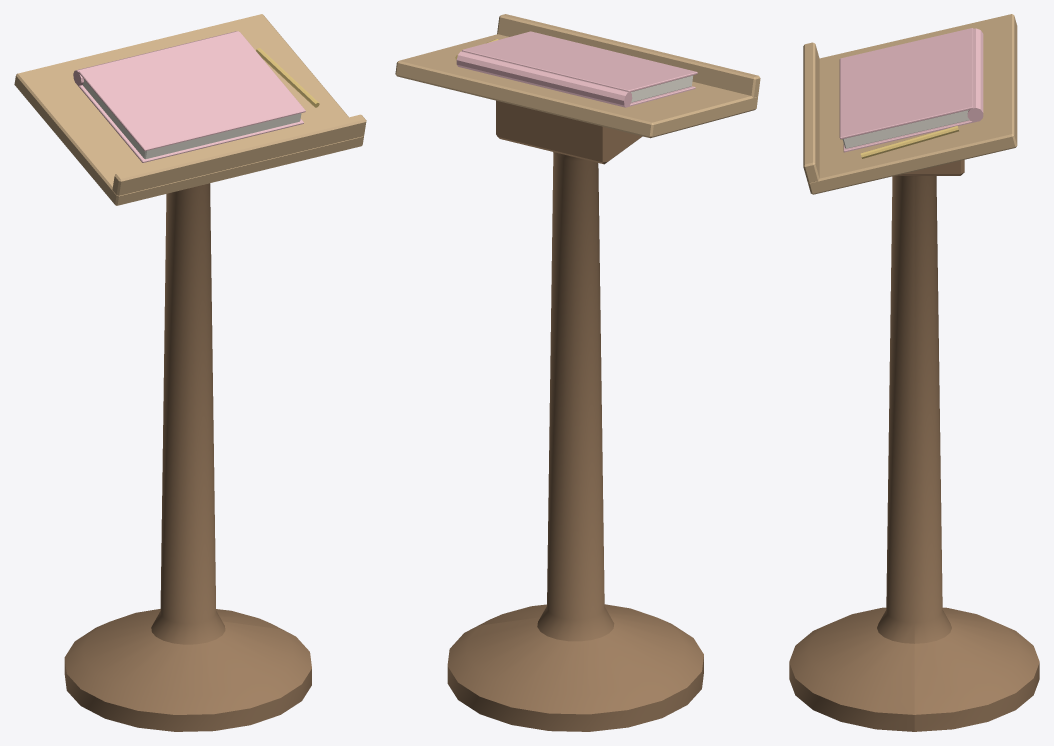
Rendered from wedding-and-chapel-kit-guest-book-stand-ae48dd80__39412.glb.
The picture shows the model from 3 angles, left to right: view 1: azimuth 30°, elevation 25°; view 2: azimuth 150°, elevation 25°; view 3: azimuth 270°, elevation 25°; orthographic projection. The views are drawn at different scales.
Parts seen in each view (by area): view 1: guest-book-stand, guestbook-cover; view 2: guest-book-stand, guestbook-cover; view 3: guest-book-stand, guestbook-cover.
Boxes of the visible parts, bbox=[...] form: guest-book-stand: bbox=[14, 14, 366, 731]; guestbook-cover: bbox=[78, 32, 305, 151]; guest-book-stand: bbox=[395, 14, 760, 731]; guestbook-cover: bbox=[462, 31, 697, 91]; guest-book-stand: bbox=[789, 14, 1039, 731]; guestbook-cover: bbox=[839, 28, 973, 139].
Bounding box in the file's own units: 0.46 × 1.08 × 0.4.
